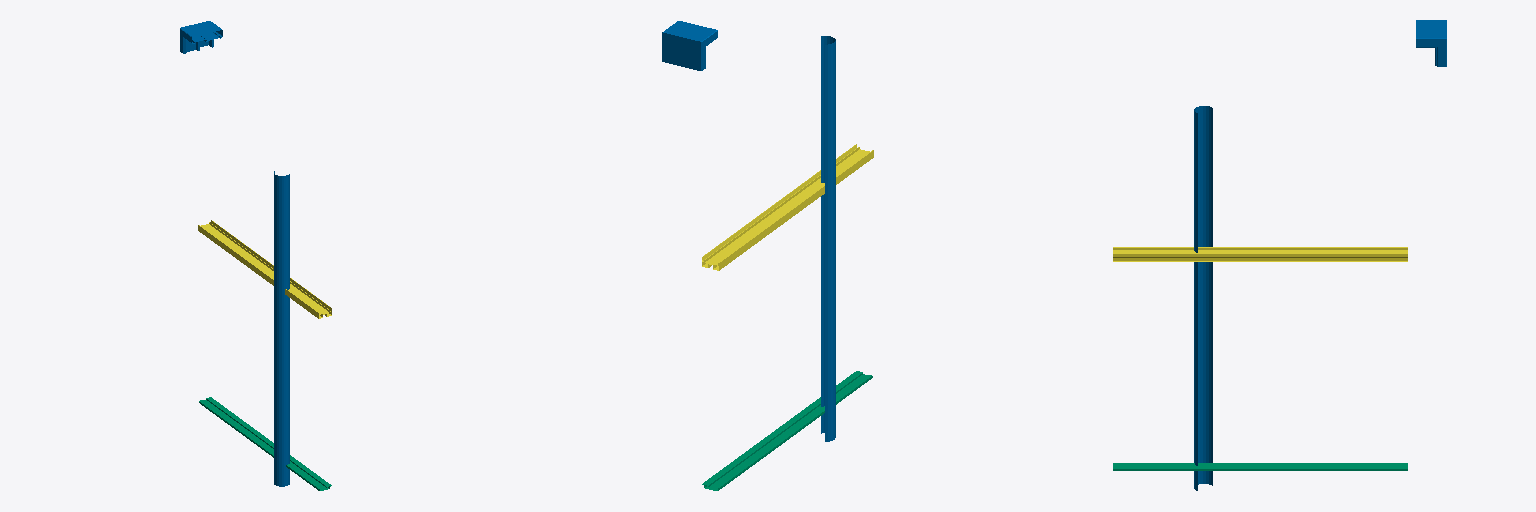
URDF robot description (partnet_976cf96169945398af7f76800034f73):
<?xml version="1.0" ?>
<robot name="partnet_976cf96169945398af7f76800034f73">
	<link name="base"/>
	<link name="link_0">
		<visual name="door-1">
			<origin xyz="0.455246 0 -0.5473470114575845"/>
			<geometry>
				<mesh filename="textured_objs/original-4.obj"/>
			</geometry>
		</visual>
		<visual name="door-1">
			<origin xyz="0.455246 0 -0.5473470114575845"/>
			<geometry>
				<mesh filename="textured_objs/original-16.obj"/>
			</geometry>
		</visual>
		<visual name="door-1">
			<origin xyz="0.455246 0 -0.5473470114575845"/>
			<geometry>
				<mesh filename="textured_objs/original-17.obj"/>
			</geometry>
		</visual>
		<visual name="door-1">
			<origin xyz="0.455246 0 -0.5473470114575845"/>
			<geometry>
				<mesh filename="textured_objs/original-12.obj"/>
			</geometry>
		</visual>
		<visual name="door-1">
			<origin xyz="0.455246 0 -0.5473470114575845"/>
			<geometry>
				<mesh filename="textured_objs/original-10.obj"/>
			</geometry>
		</visual>
		<collision>
			<origin xyz="0.455246 0 -0.5473470114575845"/>
			<geometry>
				<mesh filename="textured_objs/original-4.obj"/>
			</geometry>
		</collision>
		<collision>
			<origin xyz="0.455246 0 -0.5473470114575845"/>
			<geometry>
				<mesh filename="textured_objs/original-16.obj"/>
			</geometry>
		</collision>
		<collision>
			<origin xyz="0.455246 0 -0.5473470114575845"/>
			<geometry>
				<mesh filename="textured_objs/original-17.obj"/>
			</geometry>
		</collision>
		<collision>
			<origin xyz="0.455246 0 -0.5473470114575845"/>
			<geometry>
				<mesh filename="textured_objs/original-12.obj"/>
			</geometry>
		</collision>
		<collision>
			<origin xyz="0.455246 0 -0.5473470114575845"/>
			<geometry>
				<mesh filename="textured_objs/original-10.obj"/>
			</geometry>
		</collision>
	</link>
	<joint name="joint_0" type="revolute">
		<origin xyz="-0.455246 0 0.5473470114575845"/>
		<axis xyz="0 -1 0"/>
		<child link="link_0"/>
		<parent link="link_3"/>
		<limit lower="0.0" upper="3.141592653589793"/>
	</joint>
	<link name="link_1">
		<visual name="lock-6">
			<origin xyz="-0.21247145469496326 -0.00618408179674532 0"/>
			<geometry>
				<mesh filename="textured_objs/original-18.obj"/>
			</geometry>
		</visual>
		<visual name="lock-6">
			<origin xyz="-0.21247145469496326 -0.00618408179674532 0"/>
			<geometry>
				<mesh filename="textured_objs/original-19.obj"/>
			</geometry>
		</visual>
		<visual name="lock-6">
			<origin xyz="-0.21247145469496326 -0.00618408179674532 0"/>
			<geometry>
				<mesh filename="textured_objs/original-13.obj"/>
			</geometry>
		</visual>
		<collision>
			<origin xyz="-0.21247145469496326 -0.00618408179674532 0"/>
			<geometry>
				<mesh filename="textured_objs/original-18.obj"/>
			</geometry>
		</collision>
		<collision>
			<origin xyz="-0.21247145469496326 -0.00618408179674532 0"/>
			<geometry>
				<mesh filename="textured_objs/original-19.obj"/>
			</geometry>
		</collision>
		<collision>
			<origin xyz="-0.21247145469496326 -0.00618408179674532 0"/>
			<geometry>
				<mesh filename="textured_objs/original-13.obj"/>
			</geometry>
		</collision>
	</link>
	<joint name="joint_1" type="fixed">
		<origin xyz="0.6677174546949632 0.00618408179674532 -0.5473470114575845"/>
		<axis xyz="0 0 1"/>
		<child link="link_1"/>
		<parent link="link_0"/>
	</joint>
	<link name="link_2">
		<visual name="handle-7">
			<origin xyz="-0.35131183999792 -0.006098277006755118 -0.5473459999999999"/>
			<geometry>
				<mesh filename="textured_objs/original-11.obj"/>
			</geometry>
		</visual>
		<visual name="handle-7">
			<origin xyz="-0.35131183999792 -0.006098277006755118 -0.5473459999999999"/>
			<geometry>
				<mesh filename="textured_objs/original-15.obj"/>
			</geometry>
		</visual>
		<collision>
			<origin xyz="-0.35131183999792 -0.006098277006755118 -0.5473459999999999"/>
			<geometry>
				<mesh filename="textured_objs/original-11.obj"/>
			</geometry>
		</collision>
		<collision>
			<origin xyz="-0.35131183999792 -0.006098277006755118 -0.5473459999999999"/>
			<geometry>
				<mesh filename="textured_objs/original-15.obj"/>
			</geometry>
		</collision>
	</link>
	<joint name="joint_2" type="fixed">
		<origin xyz="0.80655783999792 0.006098277006755118 -1.0114575845765472e-06"/>
		<axis xyz="0 0 -1"/>
		<child link="link_2"/>
		<parent link="link_0"/>
		<limit lower="-1.5707963267948966" upper="-0.0"/>
	</joint>
	<link name="link_3">
		<visual name="base_body-8">
			<origin xyz="0 0 0"/>
			<geometry>
				<mesh filename="textured_objs/original-3.obj"/>
			</geometry>
		</visual>
		<visual name="base_body-8">
			<origin xyz="0 0 0"/>
			<geometry>
				<mesh filename="textured_objs/original-2.obj"/>
			</geometry>
		</visual>
		<visual name="base_body-8">
			<origin xyz="0 0 0"/>
			<geometry>
				<mesh filename="textured_objs/original-8.obj"/>
			</geometry>
		</visual>
		<visual name="base_body-8">
			<origin xyz="0 0 0"/>
			<geometry>
				<mesh filename="textured_objs/original-9.obj"/>
			</geometry>
		</visual>
		<visual name="base_body-8">
			<origin xyz="0 0 0"/>
			<geometry>
				<mesh filename="textured_objs/original-5.obj"/>
			</geometry>
		</visual>
		<visual name="base_body-8">
			<origin xyz="0 0 0"/>
			<geometry>
				<mesh filename="textured_objs/original-6.obj"/>
			</geometry>
		</visual>
		<visual name="base_body-8">
			<origin xyz="0 0 0"/>
			<geometry>
				<mesh filename="textured_objs/original-7.obj"/>
			</geometry>
		</visual>
		<visual name="base_body-8">
			<origin xyz="0 0 0"/>
			<geometry>
				<mesh filename="textured_objs/original-1.obj"/>
			</geometry>
		</visual>
		<visual name="base_body-8">
			<origin xyz="0 0 0"/>
			<geometry>
				<mesh filename="textured_objs/original-14.obj"/>
			</geometry>
		</visual>
		<collision>
			<origin xyz="0 0 0"/>
			<geometry>
				<mesh filename="textured_objs/original-3.obj"/>
			</geometry>
		</collision>
		<collision>
			<origin xyz="0 0 0"/>
			<geometry>
				<mesh filename="textured_objs/original-2.obj"/>
			</geometry>
		</collision>
		<collision>
			<origin xyz="0 0 0"/>
			<geometry>
				<mesh filename="textured_objs/original-8.obj"/>
			</geometry>
		</collision>
		<collision>
			<origin xyz="0 0 0"/>
			<geometry>
				<mesh filename="textured_objs/original-9.obj"/>
			</geometry>
		</collision>
		<collision>
			<origin xyz="0 0 0"/>
			<geometry>
				<mesh filename="textured_objs/original-5.obj"/>
			</geometry>
		</collision>
		<collision>
			<origin xyz="0 0 0"/>
			<geometry>
				<mesh filename="textured_objs/original-6.obj"/>
			</geometry>
		</collision>
		<collision>
			<origin xyz="0 0 0"/>
			<geometry>
				<mesh filename="textured_objs/original-7.obj"/>
			</geometry>
		</collision>
		<collision>
			<origin xyz="0 0 0"/>
			<geometry>
				<mesh filename="textured_objs/original-1.obj"/>
			</geometry>
		</collision>
		<collision>
			<origin xyz="0 0 0"/>
			<geometry>
				<mesh filename="textured_objs/original-14.obj"/>
			</geometry>
		</collision>
	</link>
	<joint name="joint_3" type="fixed">
		<origin rpy="1.570796326794897 0 -1.570796326794897" xyz="0 0 0"/>
		<child link="link_3"/>
		<parent link="base"/>
	</joint>
</robot>

--- Facts derived from the render (not from the file) ---
The picture shows the robot from 3 angles, left to right: view 1: azimuth 30°, elevation 25°; view 2: azimuth 150°, elevation 25°; view 3: azimuth 270°, elevation 25°; orthographic projection.
Robot: partnet_976cf96169945398af7f76800034f73 — 5 links, 4 joints (1 revolute, 3 fixed); root link base; default pose: every joint at zero.
Links seen in each view (by area): view 1: link_3, link_2, link_1; view 2: link_3, link_2, link_1; view 3: link_3, link_2, link_1.
Boxes of the visible links, x1,y1,x2,y2 form: link_3: (180, 21, 289, 486); link_2: (198, 220, 331, 318); link_1: (199, 397, 331, 490); link_3: (662, 21, 835, 441); link_2: (702, 144, 873, 270); link_1: (702, 371, 872, 490); link_3: (1194, 20, 1446, 490); link_2: (1113, 247, 1407, 261); link_1: (1113, 463, 1407, 470).
Bounding box of the posed robot: 0.1559 × 1.05 × 1.62 m (x, y, z).
Meshes: 19 distinct files referenced, 4 mesh visuals loaded (4 OBJ); not drawn: 15 (reference not matched to a file when rendering).